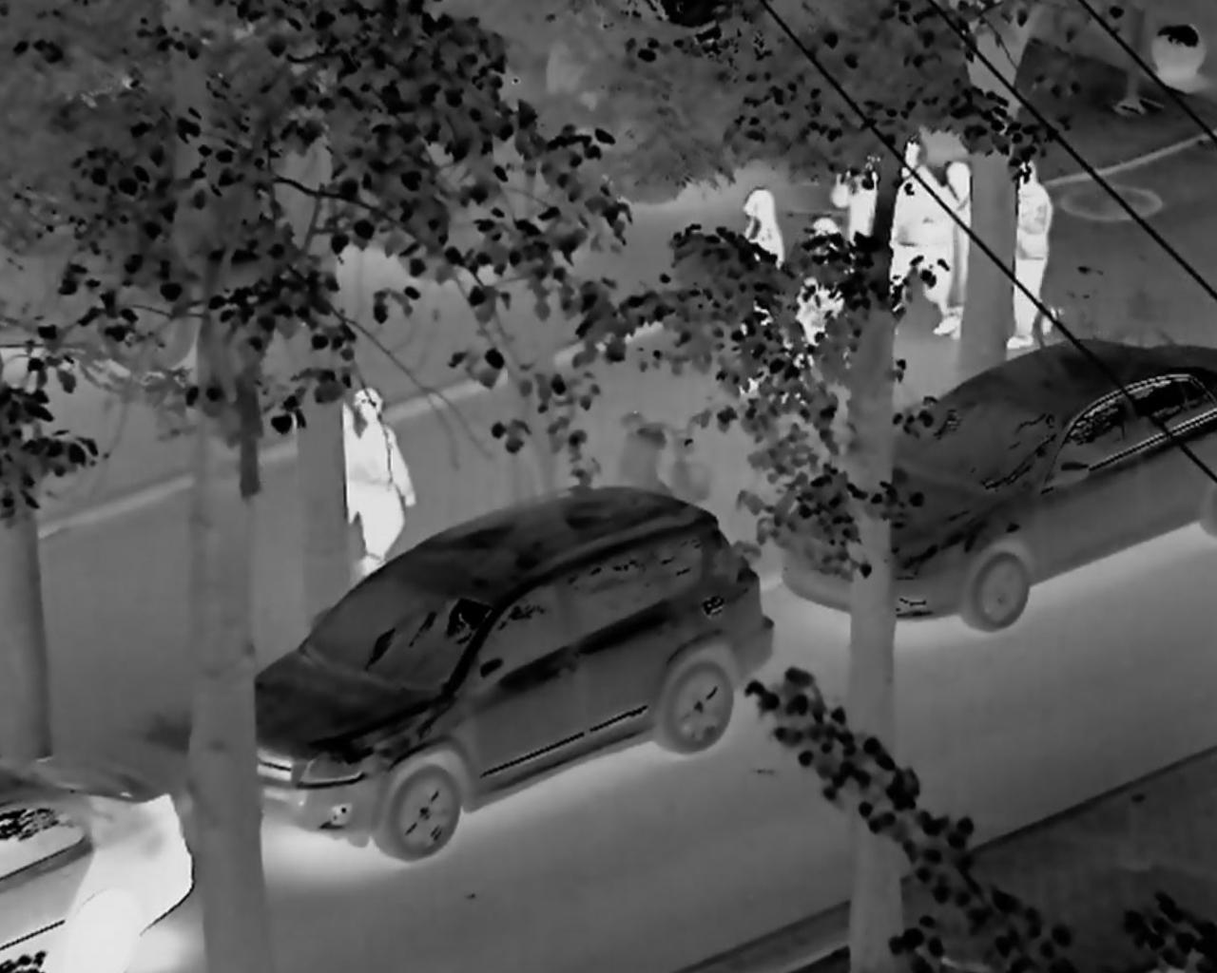person: (709, 173, 790, 402), (1001, 143, 1078, 353), (339, 384, 417, 585), (880, 136, 951, 315), (802, 198, 856, 340), (950, 155, 983, 325)
